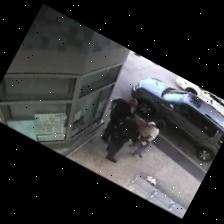person: (105, 117, 142, 162), (101, 98, 136, 143), (130, 120, 163, 157)
